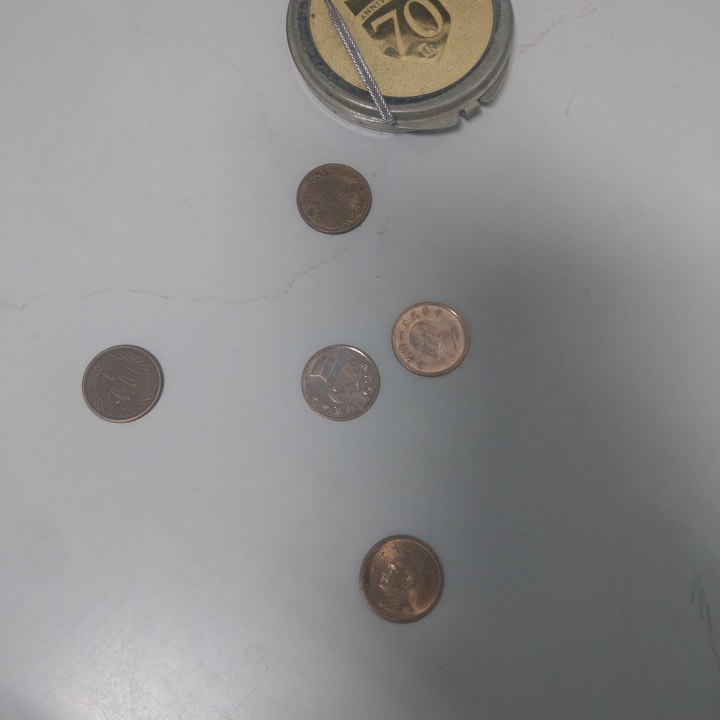1 dollar: (358, 532, 443, 629), (80, 343, 166, 426), (298, 343, 381, 426), (388, 300, 471, 377), (298, 162, 373, 238)
